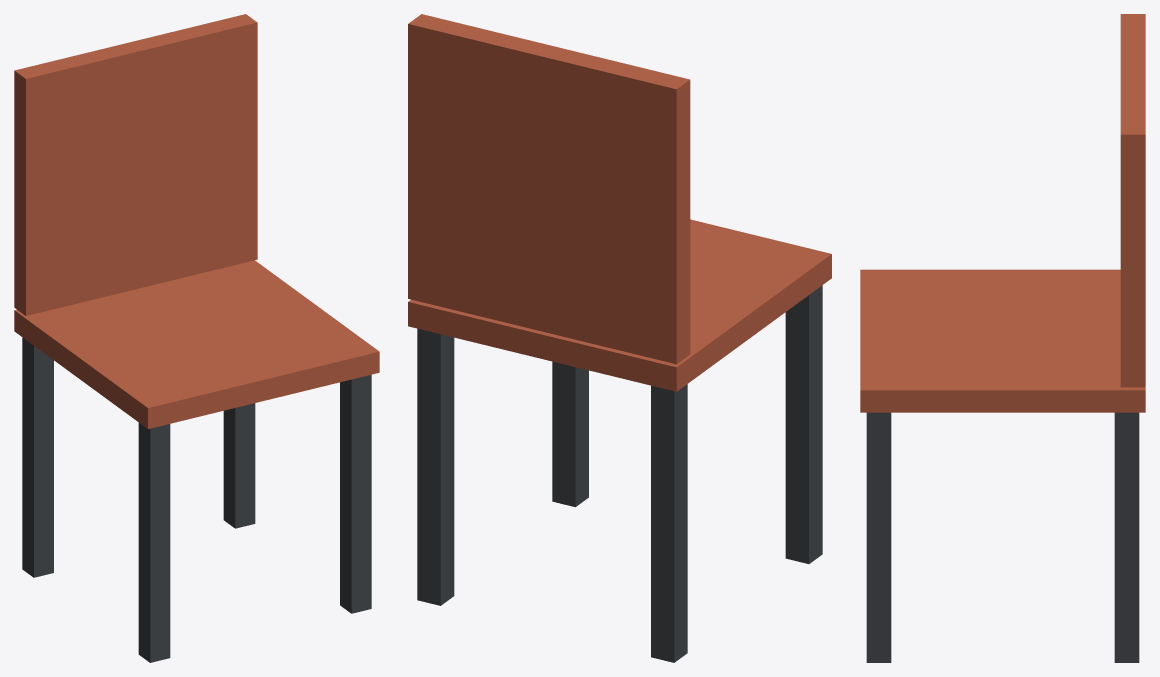
Rendered from cafe-chair.glb.
3 renders of one model, left to right at view 1: azimuth 30°, elevation 25°; view 2: azimuth 150°, elevation 25°; view 3: azimuth 270°, elevation 25°, orthographic. The views are drawn at different scales.
Parts seen in each view (by area): view 1: cafe-chair_5, cafe-chair_4, cafe-chair_0, cafe-chair_2, cafe-chair_1, cafe-chair_3; view 2: cafe-chair_5, cafe-chair_4, cafe-chair_3, cafe-chair_1, cafe-chair_0, cafe-chair_2; view 3: cafe-chair_4, cafe-chair_5, cafe-chair_2, cafe-chair_3.
Boxes of the visible parts, x1,y1,x2,y2 form: cafe-chair_5: [14, 14, 257, 315]; cafe-chair_4: [14, 260, 379, 428]; cafe-chair_0: [138, 422, 170, 662]; cafe-chair_2: [340, 374, 371, 613]; cafe-chair_1: [22, 337, 53, 577]; cafe-chair_3: [223, 403, 255, 528]; cafe-chair_5: [408, 14, 690, 364]; cafe-chair_4: [408, 219, 831, 391]; cafe-chair_3: [417, 328, 454, 605]; cafe-chair_1: [651, 384, 687, 662]; cafe-chair_0: [785, 285, 822, 563]; cafe-chair_2: [552, 361, 588, 507]; cafe-chair_4: [860, 269, 1145, 412]; cafe-chair_5: [1120, 14, 1145, 387]; cafe-chair_2: [866, 412, 891, 662]; cafe-chair_3: [1114, 412, 1139, 662].
Bounding box in the file's own units: 0.46 × 0.945 × 0.46.
